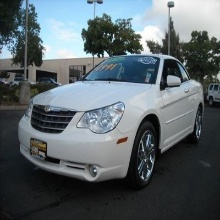no damage: (17, 53, 205, 189), (207, 81, 220, 106)
